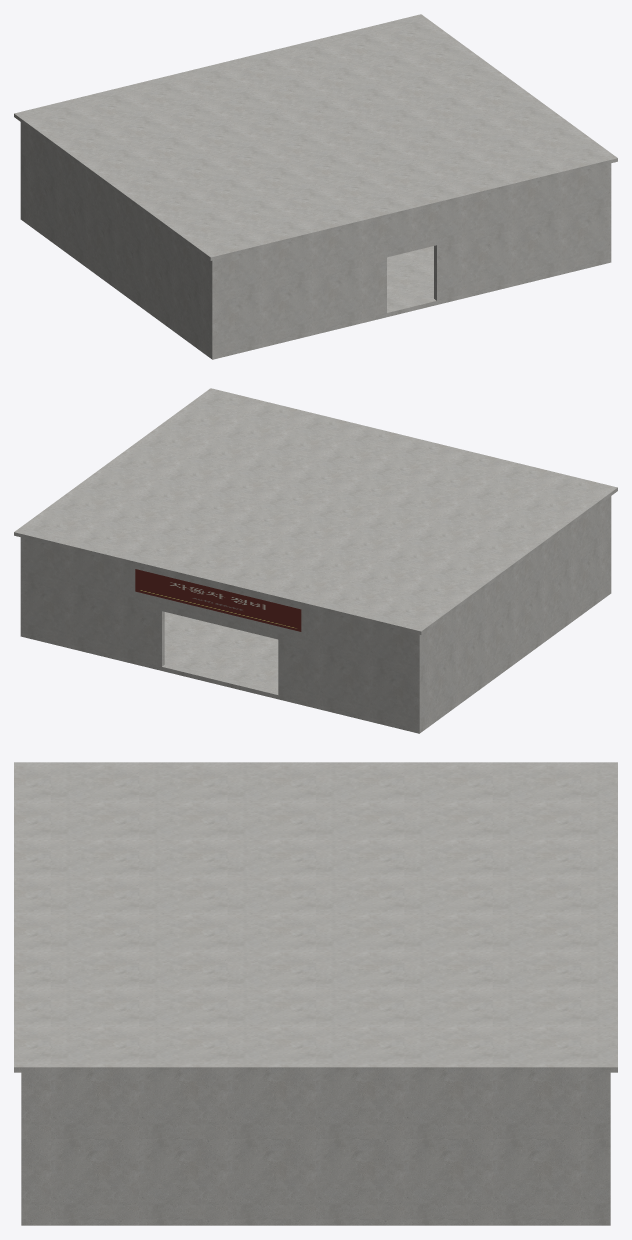
The model's file is auto_workshop.obj.
3 renders of one model, top to bottom at view 1: azimuth 30°, elevation 25°; view 2: azimuth 150°, elevation 25°; view 3: azimuth 270°, elevation 25°, orthographic. The views are drawn at different scales.
Parts seen in each view (by area): view 1: Concrete, Warm_Plaster, Interior_Floor; view 2: Concrete, Warm_Plaster, Interior_Floor, Sign_Atlas; view 3: Concrete, Warm_Plaster, Interior_Floor.
Boxes of the visible parts, x1=… form: Concrete: x1=14, y1=14, x2=617, y2=260; Warm_Plaster: x1=20, y1=122, x2=611, y2=355; Interior_Floor: x1=20, y1=215, x2=611, y2=359; Concrete: x1=14, y1=388, x2=617, y2=634; Warm_Plaster: x1=20, y1=496, x2=611, y2=729; Interior_Floor: x1=20, y1=589, x2=611, y2=733; Sign_Atlas: x1=135, y1=569, x2=301, y2=631; Concrete: x1=14, y1=762, x2=617, y2=1072; Warm_Plaster: x1=21, y1=1072, x2=610, y2=1219; Interior_Floor: x1=21, y1=1219, x2=610, y2=1225.
Bounding box in the file's own units: 24.5 × 6.04 × 20.5.
